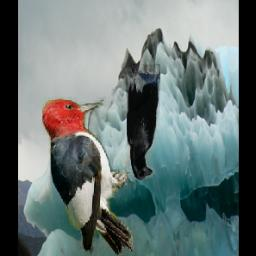Crow: (128, 65, 161, 181)
Woodpecker: (42, 98, 135, 256)
